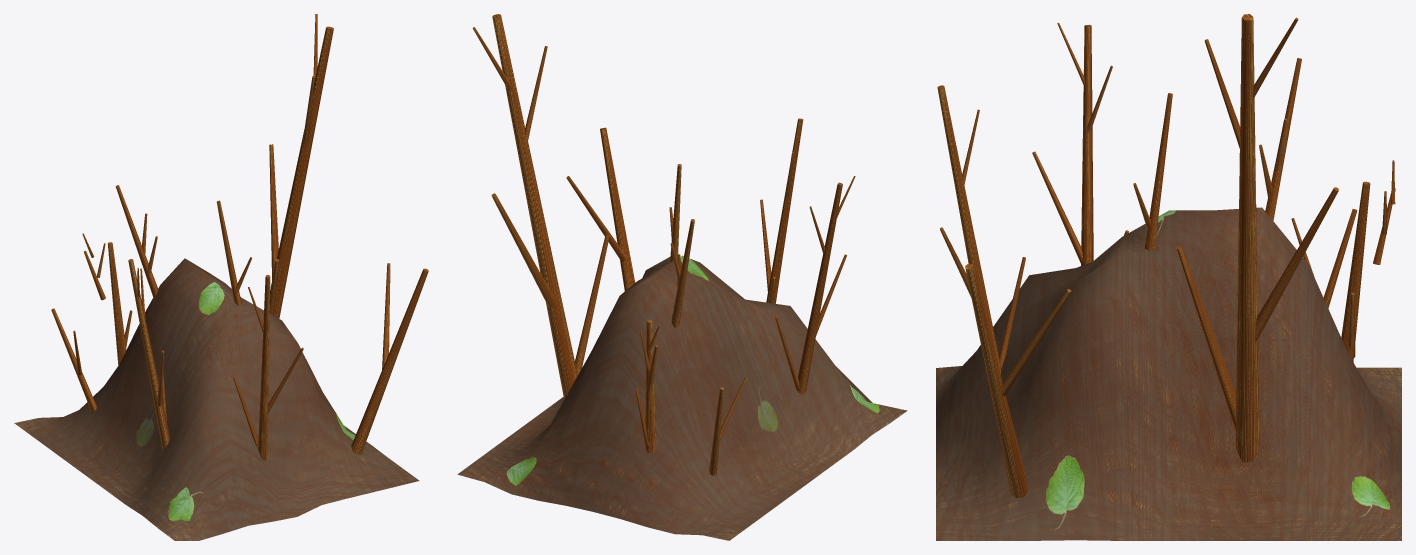
3 renders of one model, left to right at view 1: azimuth 30°, elevation 25°; view 2: azimuth 150°, elevation 25°; view 3: azimuth 270°, elevation 25°, orthographic. The views are drawn at different scales.
Parts seen in each view (by area): view 1: Plane001, Cone002, Cone007, Cone025, Cone015, Cone020, Cone003, Cone016, Cone009, Cone029, Cone008; view 2: Plane001, Cone002, Cone015, Cone007, Cone025, Cone004, Cone003, Cone020, Cone016, Cone029, Cone009, Cone008; view 3: Plane001, Cone002, Cone007, Cone015, Cone025, Cone020, Cone004, Cone003, Cone029, Cone016, Cone008, Cone012 (+3 smaller).
Boxes of the visible parts, left/top/right/bottom form: Plane001: left=14, top=258, right=419, bottom=540; Cone002: left=270, top=26, right=333, bottom=318; Cone007: left=351, top=268, right=428, bottom=454; Cone025: left=258, top=275, right=270, bottom=461; Cone015: left=128, top=259, right=169, bottom=449; Cone020: left=107, top=242, right=126, bottom=365; Cone003: left=269, top=144, right=278, bottom=280; Cone016: left=115, top=185, right=158, bottom=298; Cone009: left=51, top=308, right=96, bottom=412; Cone029: left=216, top=200, right=241, bottom=305; Cone008: left=382, top=263, right=390, bottom=369; Plane001: left=457, top=255, right=907, bottom=540; Cone002: left=492, top=14, right=577, bottom=399; Cone015: left=798, top=182, right=842, bottom=395; Cone007: left=600, top=127, right=635, bottom=291; Cone025: left=766, top=118, right=803, bottom=303; Cone004: left=575, top=234, right=609, bottom=375; Cone003: left=491, top=193, right=555, bottom=307; Cone020: left=645, top=320, right=656, bottom=452; Cone016: left=671, top=219, right=694, bottom=327; Cone029: left=670, top=164, right=681, bottom=262; Cone009: left=709, top=387, right=723, bottom=475; Cone008: left=566, top=176, right=625, bottom=261; Plane001: left=936, top=207, right=1401, bottom=540; Cone002: left=1235, top=14, right=1259, bottom=462; Cone007: left=965, top=263, right=1027, bottom=497; Cone015: left=1081, top=24, right=1093, bottom=265; Cone025: left=937, top=85, right=1001, bottom=375; Cone020: left=1341, top=181, right=1370, bottom=361; Cone004: left=1176, top=246, right=1236, bottom=429; Cone003: left=1255, top=187, right=1338, bottom=341; Cone029: left=1145, top=93, right=1172, bottom=250; Cone016: left=1265, top=58, right=1301, bottom=220; Cone008: left=1002, top=289, right=1071, bottom=395; Cone012: left=1032, top=151, right=1083, bottom=265.
Size of the model in its own units: 248 by 334 by 258.
